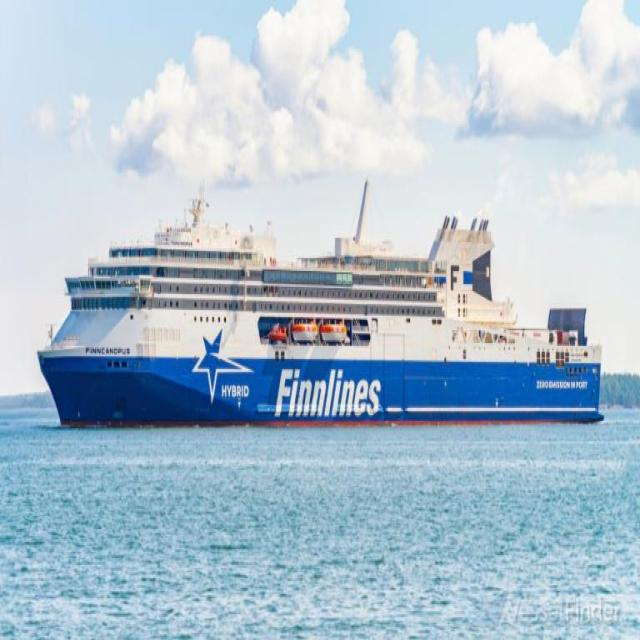PassengerShip: (41, 172, 617, 487)
